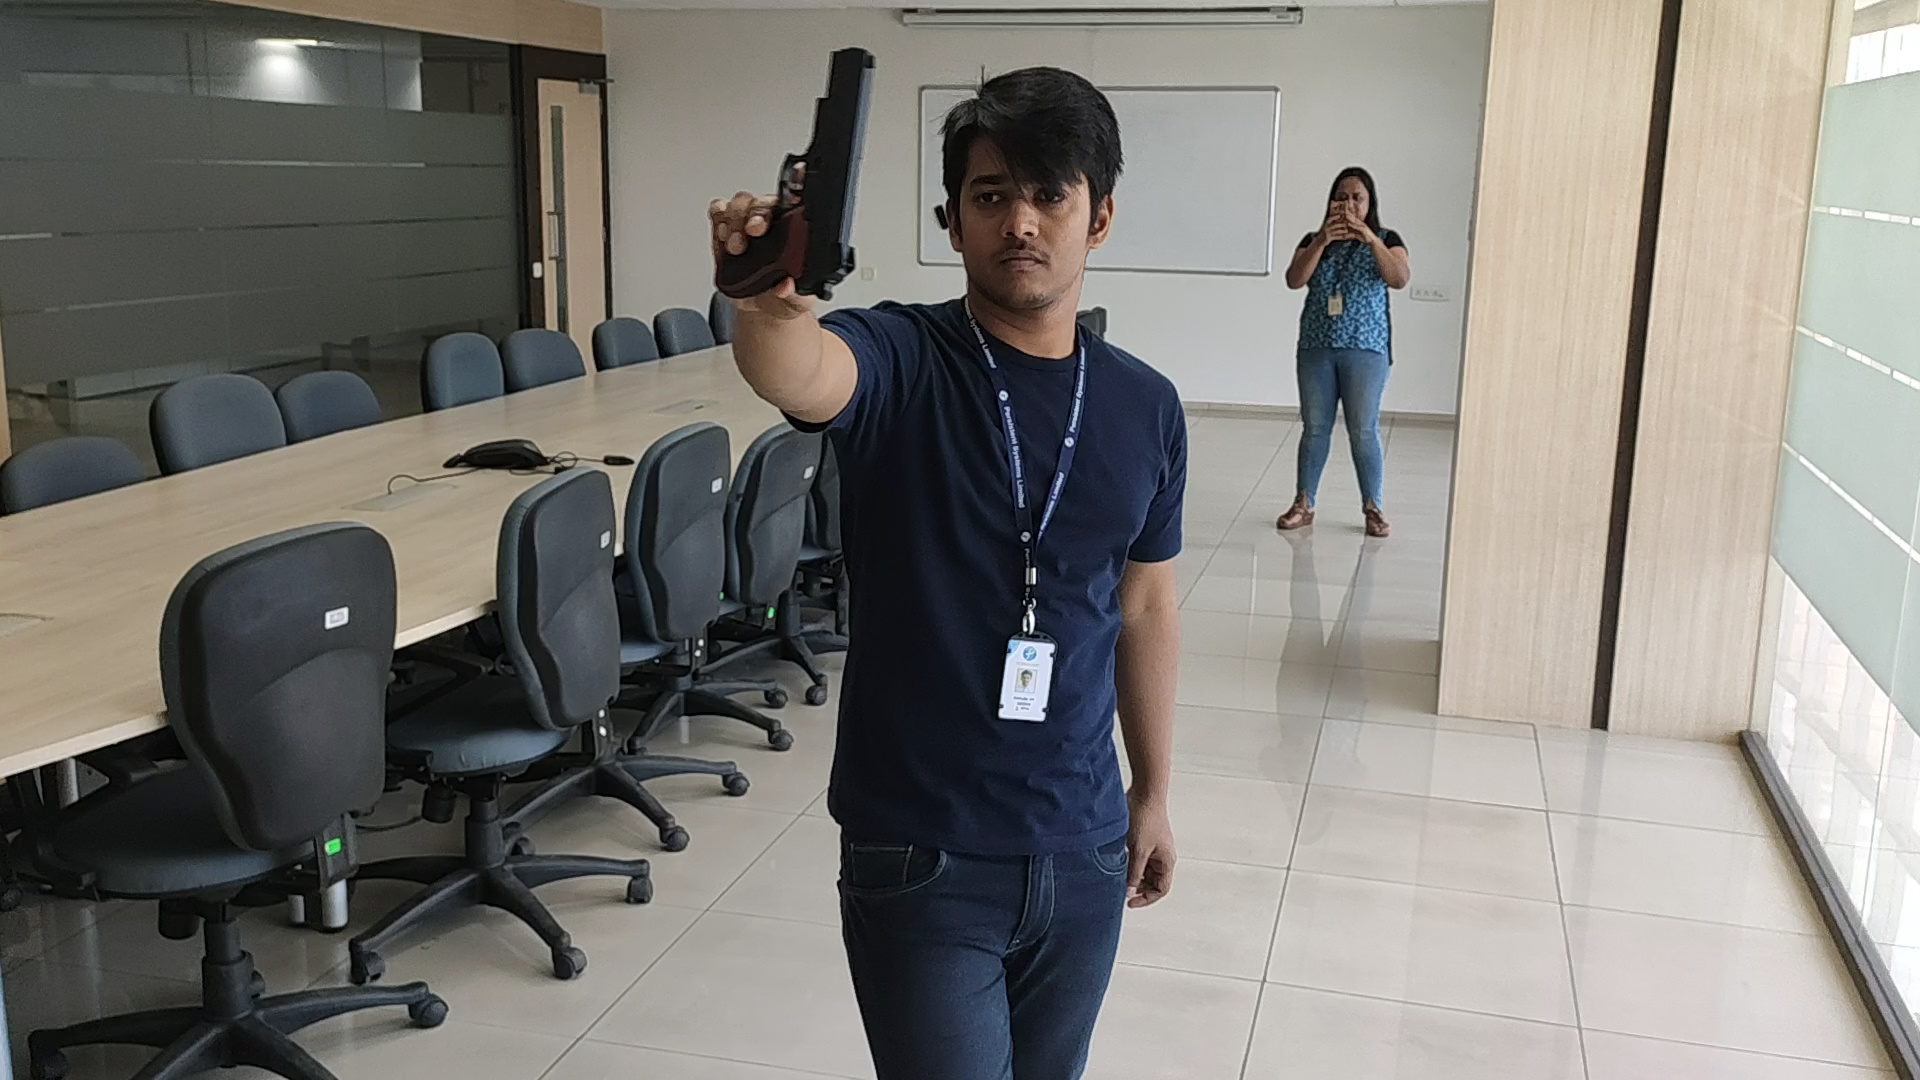gun: (711, 46, 872, 295)
